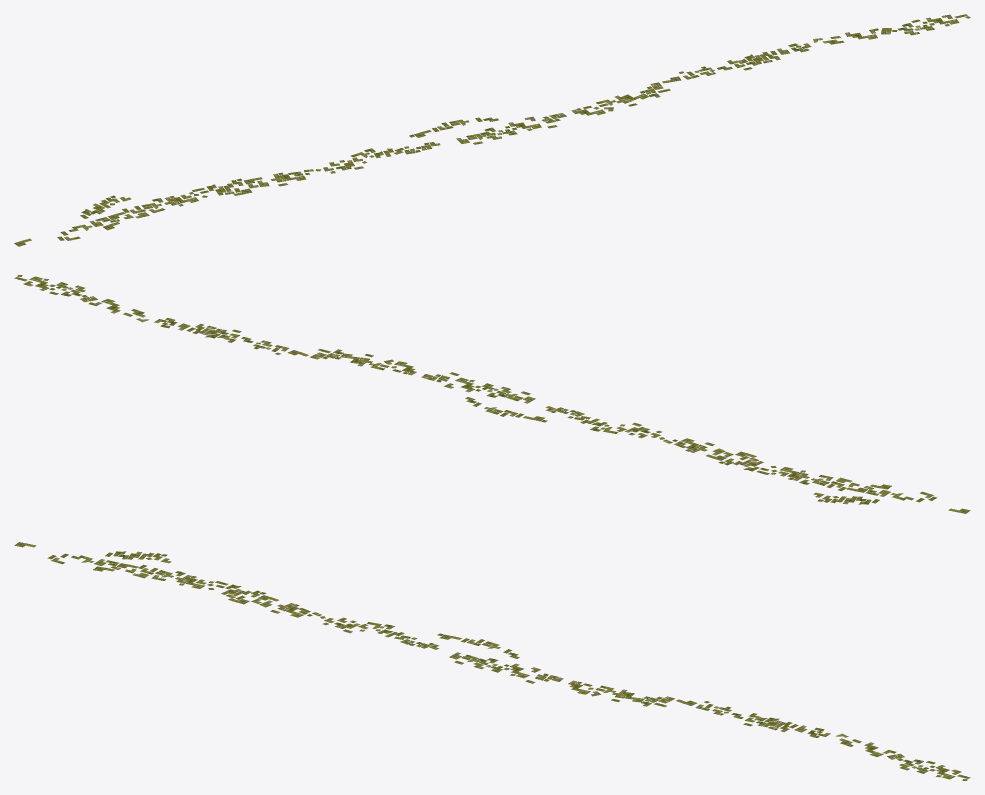
Rendered from mesh_ch7_wood_road.FBX.
3 renders of one model, top to bottom at view 1: azimuth 30°, elevation 25°; view 2: azimuth 150°, elevation 25°; view 3: azimuth 330°, elevation 25°, orthographic.
Visible parts, largest first — view 1: mesh_ch7_wood_road; view 2: mesh_ch7_wood_road; view 3: mesh_ch7_wood_road.
Boxes of the visible parts, bbox=[...] form: mesh_ch7_wood_road: bbox=[14, 14, 970, 246]; mesh_ch7_wood_road: bbox=[14, 275, 970, 513]; mesh_ch7_wood_road: bbox=[14, 542, 970, 780].
Bounding box in the file's own units: 285 × 5.06e-06 × 21.14.
